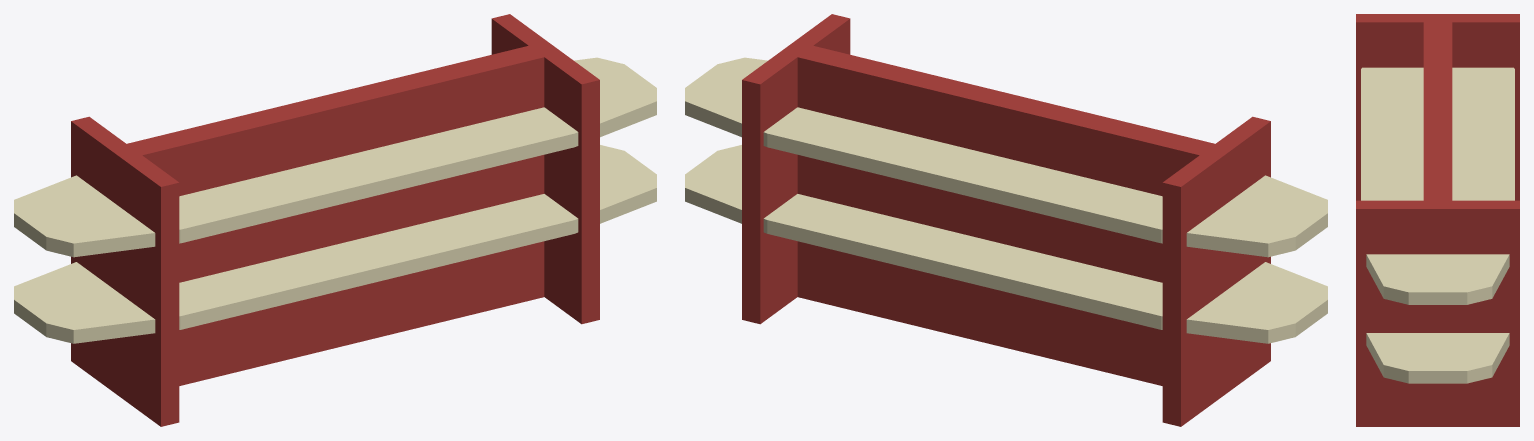
File: Escenario_mueble01.fbx
The picture shows the model from 3 angles, left to right: view 1: azimuth 30°, elevation 25°; view 2: azimuth 150°, elevation 25°; view 3: azimuth 270°, elevation 25°; orthographic projection. The views are drawn at different scales.
Parts seen in each view (by area): view 1: Cube, Cube.001, Cube.002; view 2: Cube, Cube.001, Cube.002; view 3: Cube, Cube.001, Cube.002.
Boxes of the visible parts, bbox=[...] form: Cube: bbox=[71, 14, 599, 426]; Cube.001: bbox=[14, 57, 656, 257]; Cube.002: bbox=[14, 145, 656, 343]; Cube: bbox=[742, 14, 1270, 426]; Cube.001: bbox=[685, 57, 1327, 257]; Cube.002: bbox=[685, 145, 1327, 343]; Cube: bbox=[1356, 14, 1519, 426]; Cube.001: bbox=[1361, 67, 1514, 304]; Cube.002: bbox=[1366, 333, 1509, 383].
Bounding box in the file's own units: 1119 × 420 × 286.
